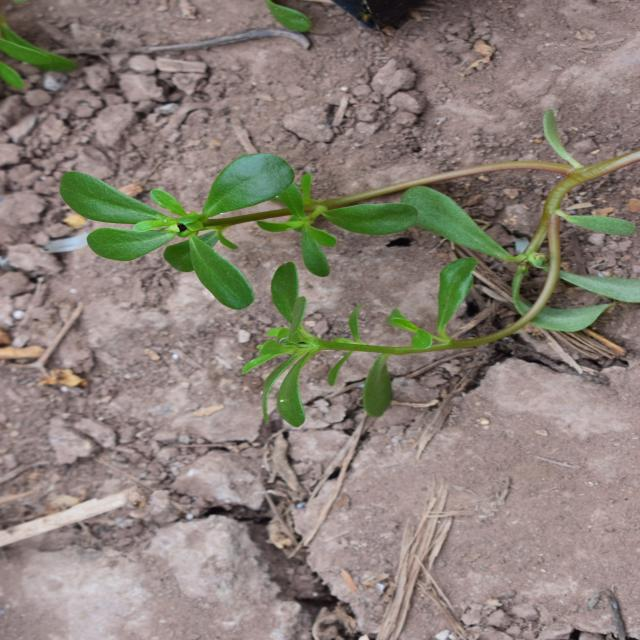purslane: (208, 58, 514, 611)
